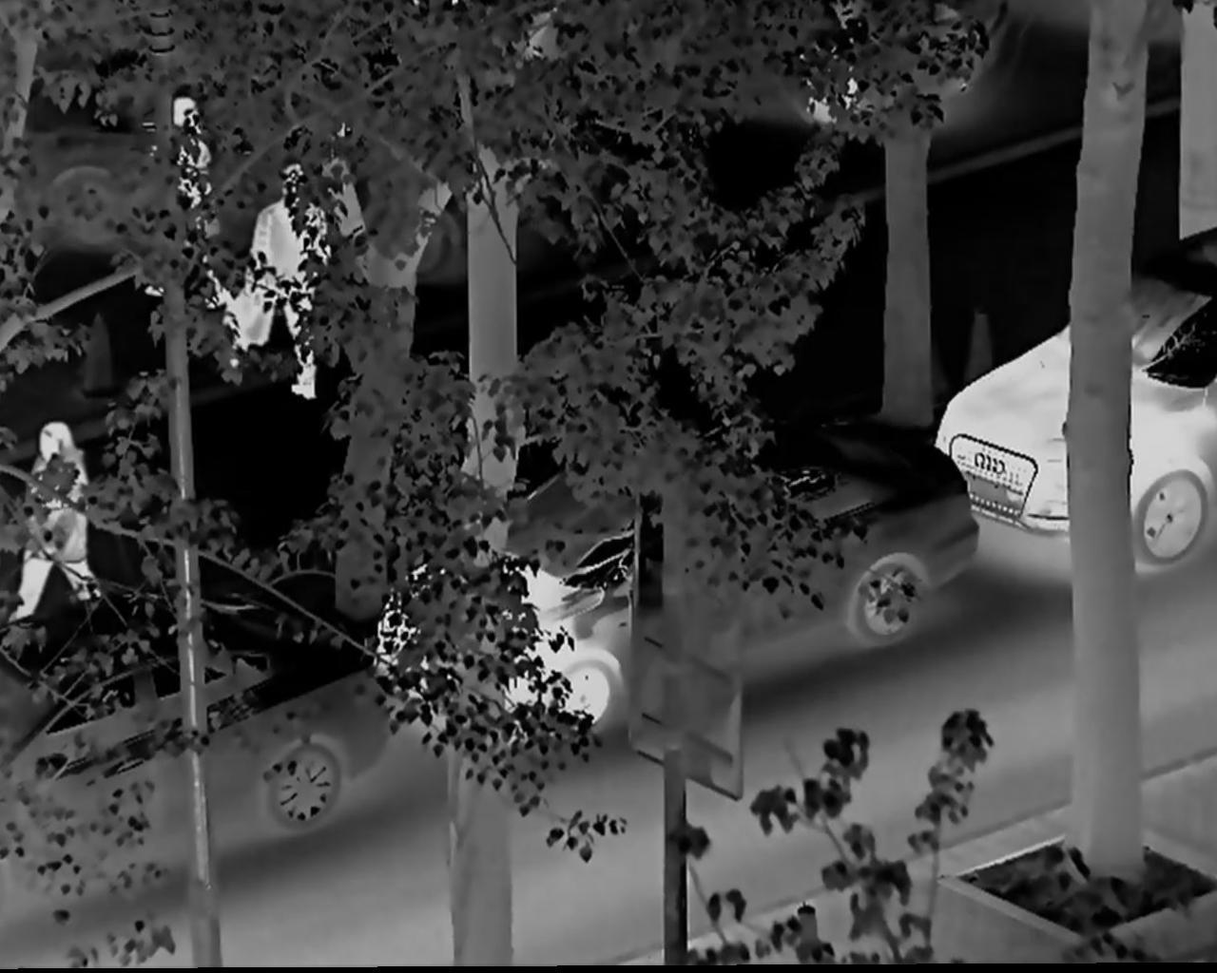person: (244, 162, 343, 426), (11, 423, 113, 627)
